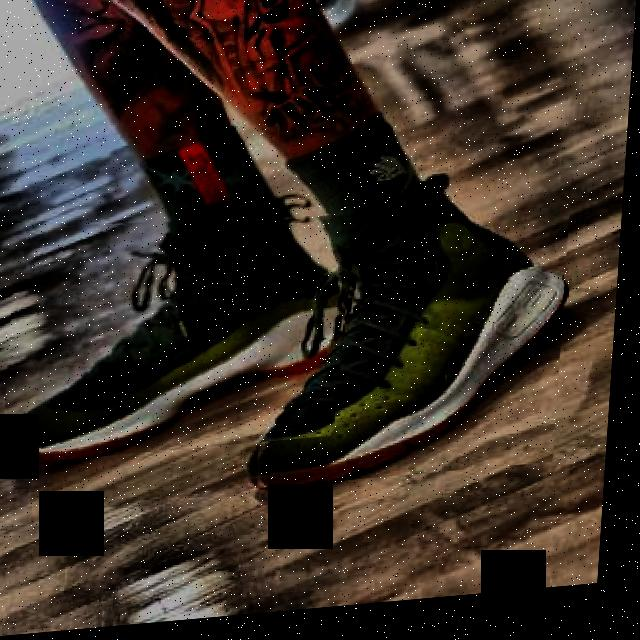shoe: (254, 189, 575, 494), (7, 204, 362, 466)
